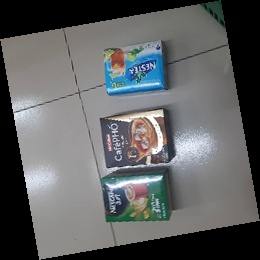CF pho: (97, 108, 174, 171)
Nes Rang: (100, 167, 173, 225)
Nestea: (101, 39, 169, 97)
